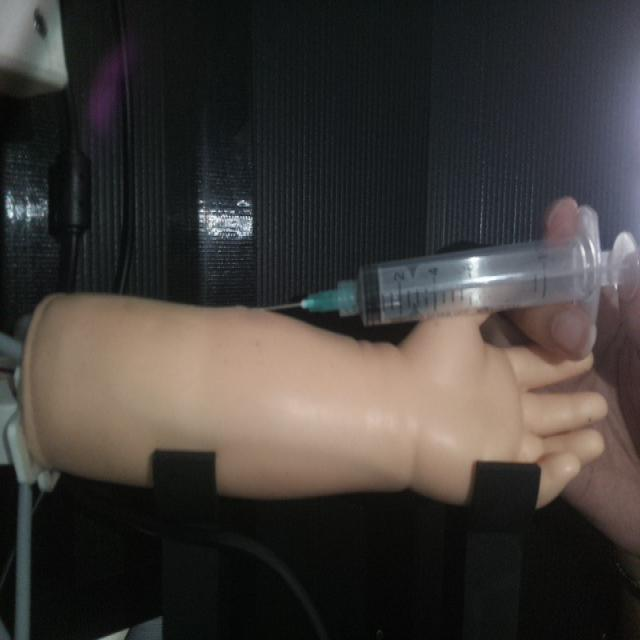Outside: (264, 202, 638, 330)
